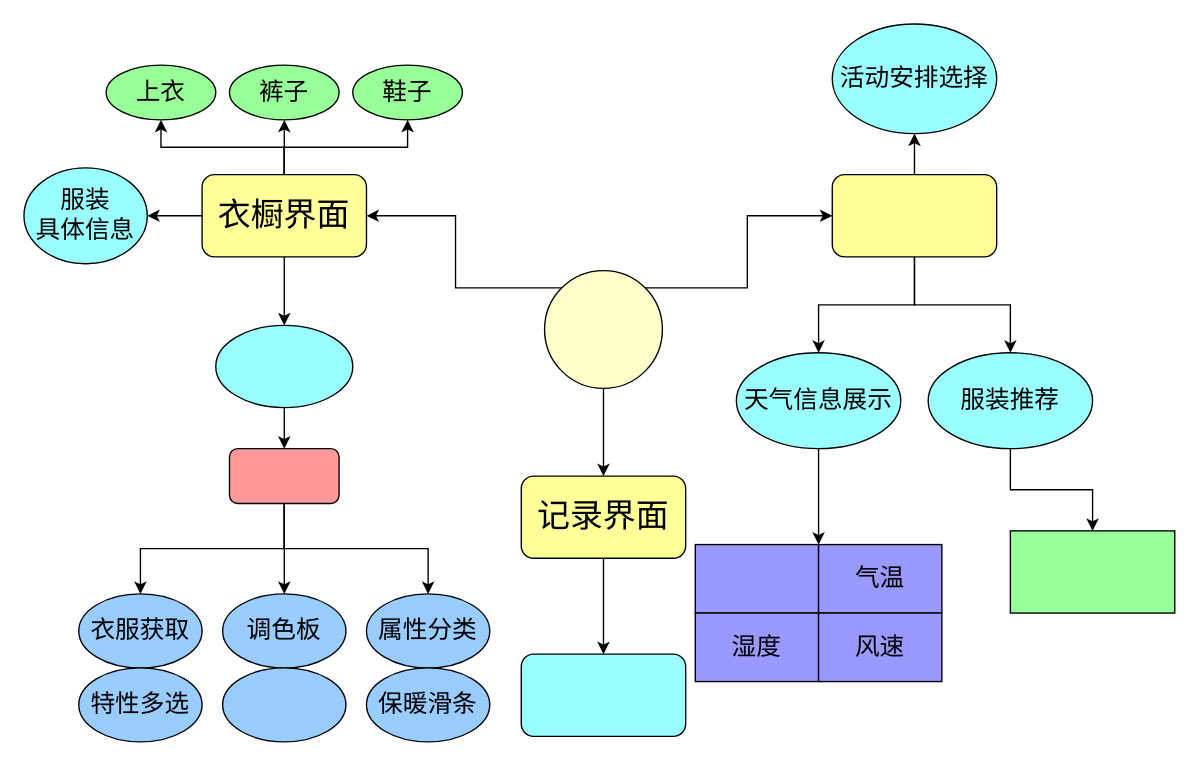
This 1199x777 diagram has some shape labels left out. The centre of each missing label's shape, as x and y in pixels:
UI: pixel 602 328
一键添加 穿搭: pixel 1092 571
天气: pixel 756 578
展示每日穿搭: pixel 603 694
添加衣服: pixel 283 366
穿搭界面: pixel 914 215
购买时间: pixel 283 704
问卷: pixel 283 475
